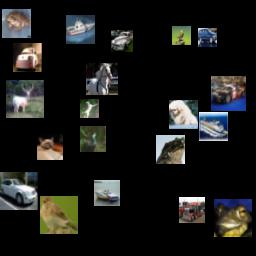automobile: (0, 172, 38, 210), (211, 76, 246, 111), (13, 43, 42, 72), (111, 30, 133, 52), (198, 28, 217, 47)
bird: (40, 196, 78, 234), (80, 126, 106, 152), (172, 26, 191, 45)
cat: (37, 134, 63, 160)
deer: (6, 80, 44, 118)
dog: (169, 100, 198, 129), (80, 99, 99, 118)
frog: (214, 199, 252, 237), (156, 135, 185, 164), (2, 9, 31, 38)
ship: (66, 15, 95, 44), (199, 112, 228, 141), (94, 180, 120, 206)
truck: (179, 197, 205, 223)
